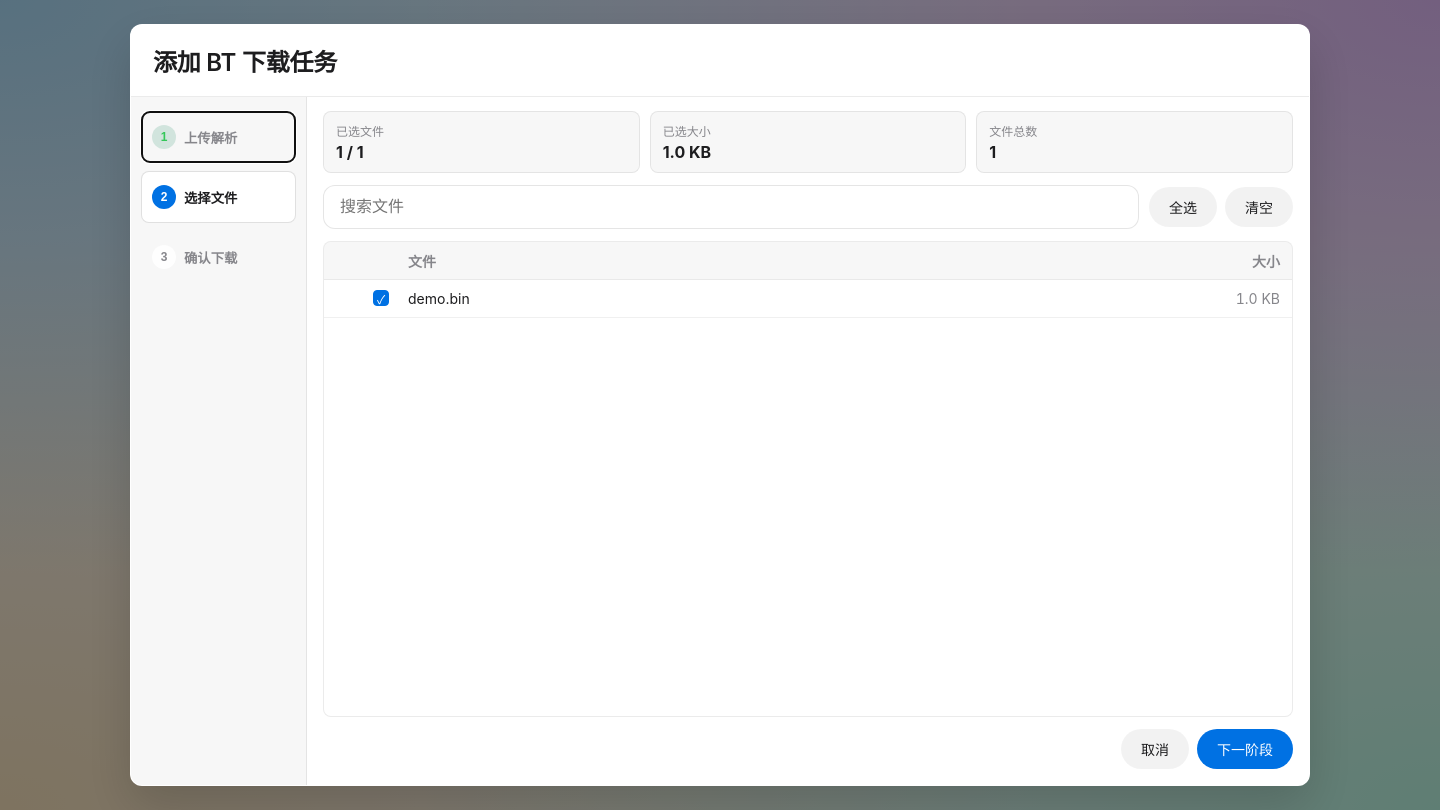
Test: TorrentCreateWizard 提交错误提示 › 重复任务等提交失败时，向导内显示错误横幅
The width and height of the screenshot is (1440, 810).
Click the button "下一阶段" at [1245, 749], box [1197,729,1293,769]
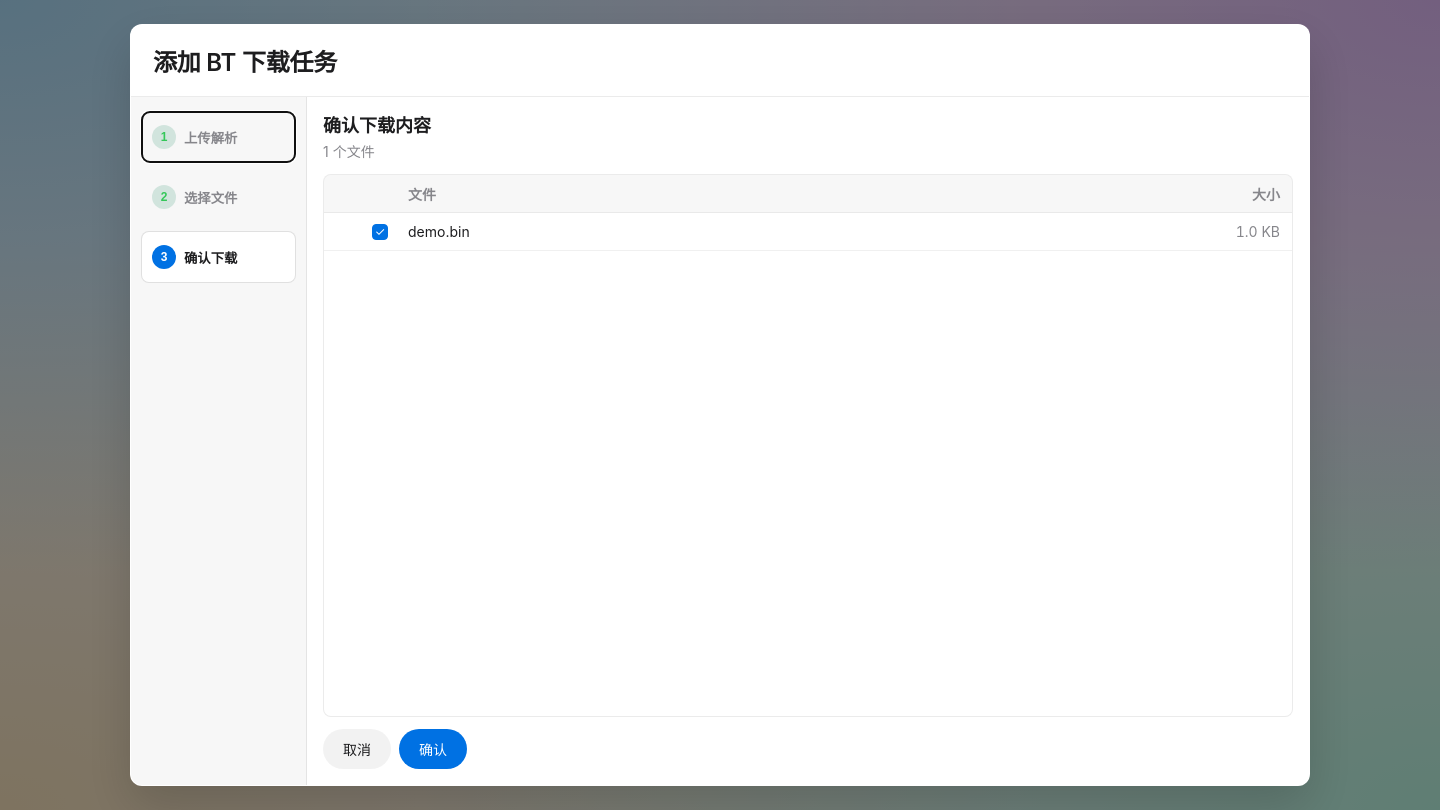
Click the button "确认" at [433, 749], box [399,729,467,769]
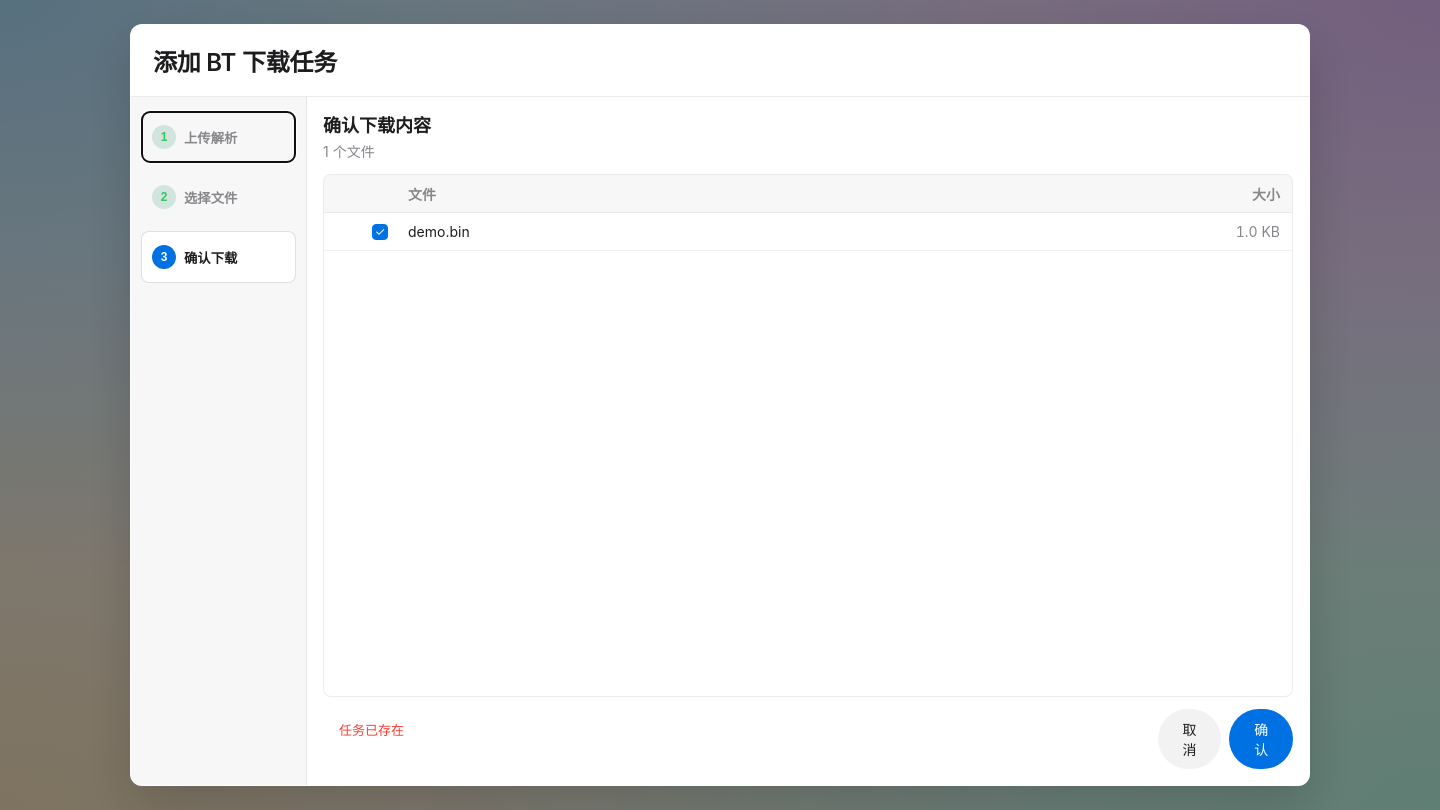
Now the button "确认" is enabled, box [1229,709,1293,769]
Now the message reads "任务已存在", box [339,722,404,738]
